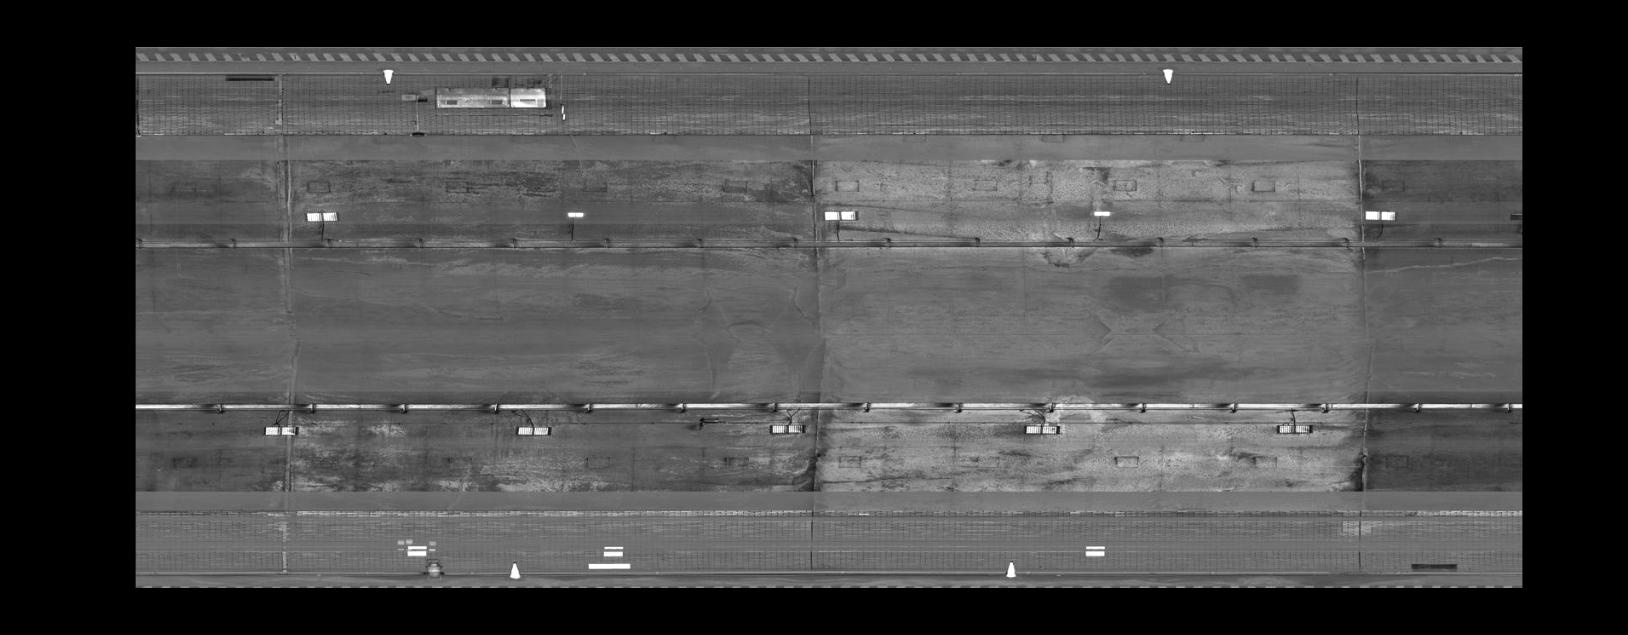light: (1273, 420, 1317, 437), (766, 420, 810, 437), (1022, 422, 1065, 438), (512, 423, 555, 439), (302, 209, 343, 224), (260, 423, 301, 438), (821, 208, 859, 222), (1363, 208, 1401, 221), (1087, 209, 1115, 218), (561, 210, 588, 219)
